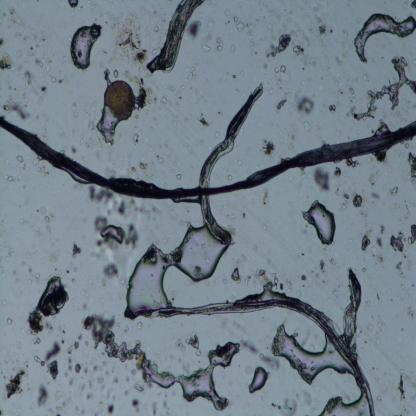Air bubble: (123, 224, 224, 309), (141, 341, 238, 407), (269, 322, 346, 383), (352, 11, 416, 63), (302, 200, 336, 245), (70, 23, 102, 68), (321, 391, 370, 415), (96, 106, 118, 141), (99, 220, 126, 245), (247, 366, 269, 393), (68, 0, 79, 9)
Background material: (364, 56, 415, 114), (84, 315, 143, 363), (25, 276, 68, 334), (86, 187, 158, 219), (110, 10, 148, 68), (35, 343, 63, 379), (134, 73, 156, 109), (250, 269, 286, 290), (64, 340, 84, 375), (4, 367, 25, 397), (266, 30, 290, 56), (270, 396, 298, 416), (83, 357, 114, 375), (1, 102, 31, 120), (312, 166, 331, 193), (184, 19, 204, 44), (0, 4, 22, 26), (45, 64, 67, 86), (125, 224, 142, 250), (169, 84, 185, 111), (395, 372, 408, 405), (356, 207, 373, 232), (40, 204, 54, 234), (50, 397, 72, 416), (395, 254, 411, 278), (389, 230, 405, 254), (355, 325, 374, 345), (184, 335, 202, 356), (292, 22, 310, 43), (100, 260, 121, 278), (405, 150, 416, 184), (45, 241, 61, 264), (240, 336, 258, 356), (369, 235, 385, 257), (35, 383, 50, 406), (272, 64, 290, 83), (28, 50, 47, 68), (22, 68, 36, 92), (31, 26, 46, 48), (260, 352, 279, 369), (280, 8, 295, 29), (177, 354, 191, 376), (387, 202, 403, 221), (374, 320, 386, 345), (248, 29, 259, 56), (338, 192, 352, 213), (260, 138, 274, 159), (127, 162, 151, 174), (244, 14, 264, 28), (285, 84, 299, 104), (27, 264, 40, 285), (299, 97, 314, 115), (367, 168, 382, 186), (1, 352, 20, 366), (4, 73, 18, 92), (36, 76, 48, 98), (359, 231, 372, 251), (0, 53, 14, 71), (0, 173, 13, 192), (1, 243, 14, 262), (232, 16, 246, 33), (173, 334, 186, 352), (262, 188, 272, 211), (22, 248, 39, 261), (70, 242, 83, 259), (187, 61, 198, 81), (343, 105, 355, 123), (230, 267, 242, 285), (202, 20, 212, 41), (132, 377, 145, 393), (70, 403, 86, 416), (131, 396, 141, 416), (316, 18, 327, 36), (93, 274, 107, 288), (296, 272, 309, 287), (275, 96, 287, 112), (331, 164, 343, 180), (70, 100, 80, 119), (404, 198, 412, 221), (408, 223, 416, 246), (272, 124, 285, 138), (16, 172, 29, 186), (292, 42, 306, 55), (11, 266, 21, 284), (103, 67, 118, 79), (350, 193, 362, 208), (214, 36, 225, 52), (90, 135, 100, 152), (96, 374, 106, 391), (170, 113, 182, 127), (18, 217, 32, 229), (21, 192, 33, 206), (78, 134, 90, 148), (387, 183, 399, 197), (124, 368, 136, 382), (260, 60, 270, 76), (196, 116, 209, 128), (18, 257, 30, 270), (38, 165, 50, 178), (303, 56, 315, 68), (90, 248, 102, 260), (85, 116, 94, 132), (302, 121, 313, 133), (68, 261, 80, 272), (334, 54, 344, 67), (86, 0, 99, 10), (105, 402, 116, 413), (107, 388, 117, 400), (336, 183, 344, 198), (313, 9, 323, 21), (398, 406, 410, 416), (348, 84, 356, 99), (56, 387, 64, 401), (332, 284, 340, 298), (151, 400, 158, 416), (131, 132, 139, 146), (67, 375, 75, 389), (318, 258, 326, 272), (369, 190, 380, 200), (0, 30, 6, 48), (266, 85, 275, 97), (291, 121, 299, 134), (34, 230, 44, 240), (198, 96, 208, 106), (200, 44, 211, 53), (93, 407, 104, 416), (155, 155, 166, 164), (82, 300, 89, 314), (288, 136, 294, 152), (34, 334, 41, 347), (0, 262, 6, 277), (15, 155, 25, 164), (342, 47, 350, 58), (334, 86, 345, 94), (60, 52, 68, 63), (160, 95, 168, 106), (408, 305, 414, 319), (162, 397, 169, 409), (242, 274, 248, 288), (237, 156, 244, 168), (379, 223, 386, 235), (329, 103, 336, 115), (5, 316, 14, 325), (85, 393, 94, 402), (330, 257, 339, 266), (87, 378, 93, 391), (4, 158, 11, 169), (260, 223, 267, 234), (376, 255, 383, 266), (375, 290, 382, 301), (227, 45, 235, 54), (112, 375, 121, 383), (230, 72, 238, 81), (32, 158, 41, 166), (320, 278, 329, 286), (234, 1, 244, 8), (174, 174, 184, 181), (362, 71, 368, 82), (220, 73, 228, 81), (13, 50, 21, 58), (136, 321, 143, 330), (14, 340, 21, 349), (411, 377, 416, 389), (214, 129, 220, 139), (65, 33, 71, 43), (342, 29, 349, 37), (313, 272, 320, 280), (169, 353, 175, 362), (241, 210, 247, 219), (410, 0, 416, 9), (188, 142, 192, 155), (25, 358, 28, 375), (72, 144, 77, 154), (71, 275, 78, 282), (293, 391, 299, 399), (260, 316, 266, 324), (225, 8, 231, 16), (124, 324, 130, 332), (83, 339, 88, 348), (123, 389, 129, 396), (80, 233, 86, 240), (72, 298, 78, 305), (400, 282, 405, 290), (405, 142, 410, 150), (377, 396, 382, 404), (21, 326, 26, 334), (2, 297, 6, 307), (329, 27, 335, 33), (228, 175, 233, 182), (23, 36, 30, 41), (225, 20, 230, 27), (150, 162, 154, 170), (43, 112, 47, 120), (366, 300, 370, 308), (239, 69, 244, 75), (411, 393, 416, 399), (362, 267, 367, 273), (311, 93, 316, 99), (382, 0, 388, 5), (386, 298, 393, 302), (80, 333, 84, 340), (342, 172, 347, 177), (171, 169, 176, 174), (413, 59, 416, 67), (380, 54, 384, 60), (30, 46, 34, 52), (384, 372, 388, 378), (82, 216, 86, 222), (162, 83, 166, 88), (404, 237, 408, 242), (35, 208, 39, 213), (185, 118, 188, 123), (134, 115, 139, 118), (80, 6, 83, 11), (323, 103, 326, 108), (67, 269, 70, 274), (401, 328, 404, 332), (327, 2, 330, 6), (372, 366, 375, 370), (37, 0, 39, 2), (412, 285, 414, 287)
Cellulose filter fibre: (136, 292, 374, 414), (198, 83, 263, 188), (146, 1, 208, 74), (200, 196, 233, 246), (343, 267, 362, 351)
Cotton: (0, 118, 416, 204)
Diatom: (101, 78, 137, 119)
